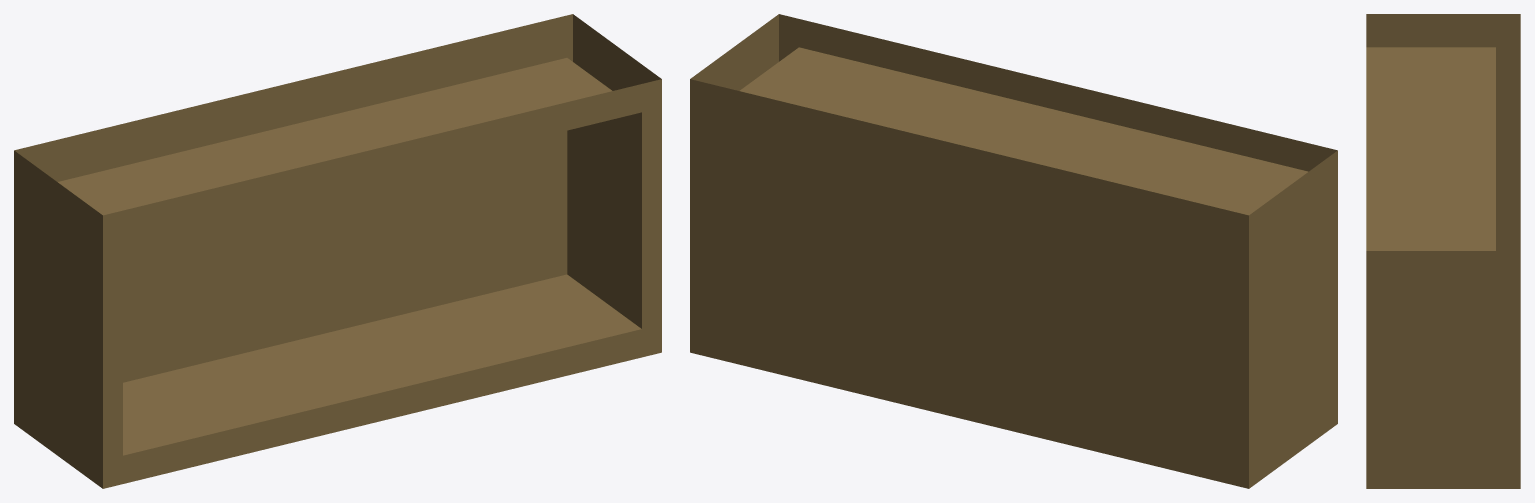
Rendered from Itr_Wardrobe4_Body2_01.FBX.
3 views of the same model, side by side, from view 1: azimuth 30°, elevation 25°; view 2: azimuth 150°, elevation 25°; view 3: azimuth 270°, elevation 25° (orthographic). The views are drawn at different scales.
Parts seen in each view (by area): view 1: Itr_Wardrobe4_Body2_01; view 2: Itr_Wardrobe4_Body2_01; view 3: Itr_Wardrobe4_Body2_01.
Part boxes in pixels (x1,y1,x2,y2): Itr_Wardrobe4_Body2_01: (14, 14, 661, 488); Itr_Wardrobe4_Body2_01: (690, 14, 1337, 488); Itr_Wardrobe4_Body2_01: (1366, 14, 1520, 488).
Size of the model in its own units: 59.06 by 27.62 by 16.27.
